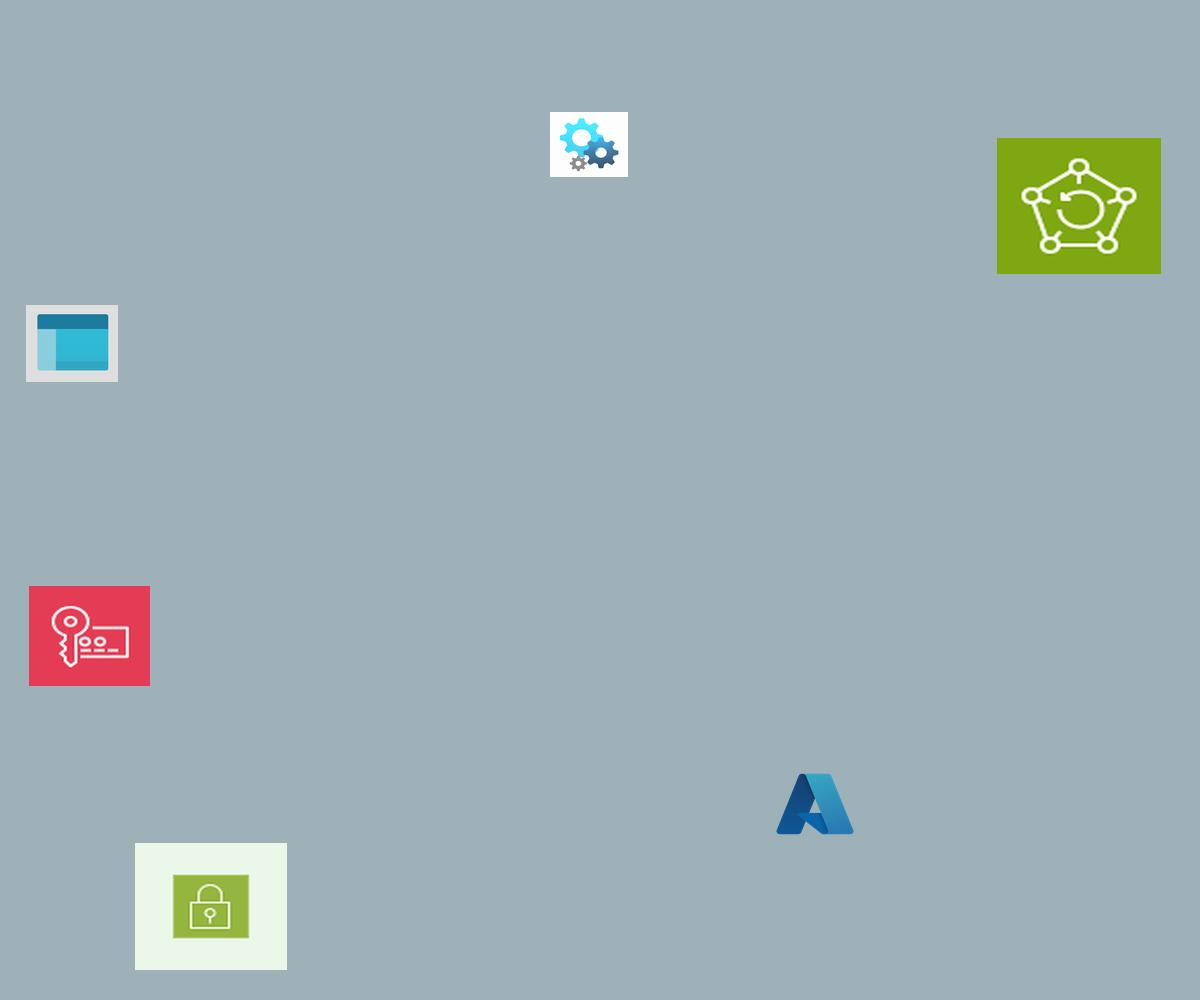AWS-Backup: (997, 138, 1161, 274)
AWS-Key-Management-Service: (29, 586, 150, 686)
AWS-Public-subnet: (135, 843, 287, 970)
Azure_api: (550, 112, 628, 177)
Azure_management-portal: (26, 305, 118, 382)
Azure_services: (773, 769, 857, 839)
